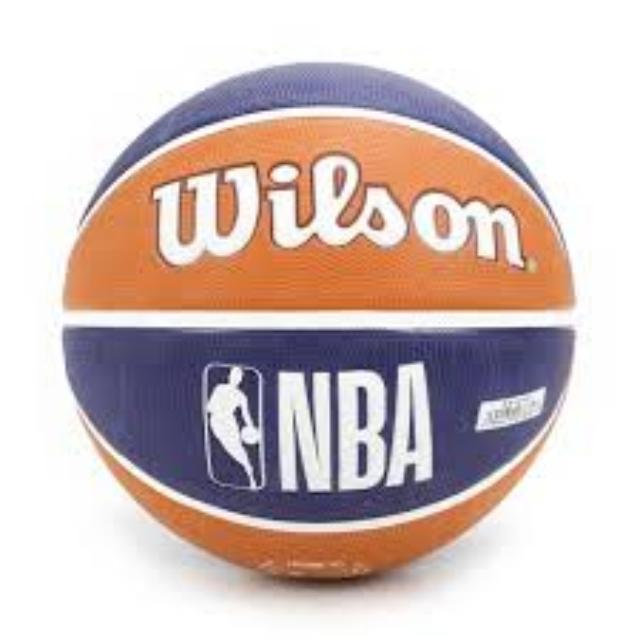basketball: (64, 62, 574, 578)
